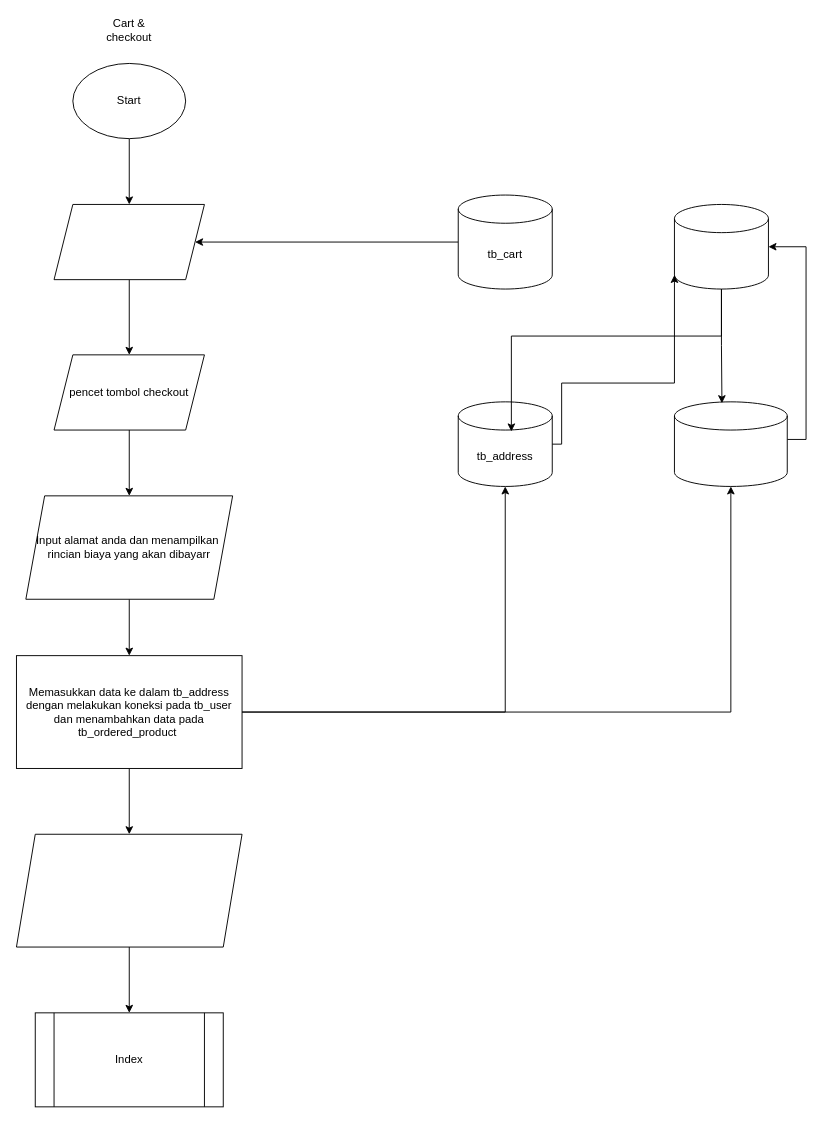
Image size: 830x1123. Some labels were removed from this diagram. The shapes that lost their labels are listed below. From the top down, each one's box as (x1, y1, x2, y2) in pixels, then its label:
(53, 204, 204, 280): Menampilkan data barang melalui ID
(674, 204, 768, 289): tb_user
(674, 401, 787, 486): tb_ordered_product
(16, 833, 242, 947): Menampilkan hasil beli barang lelang
